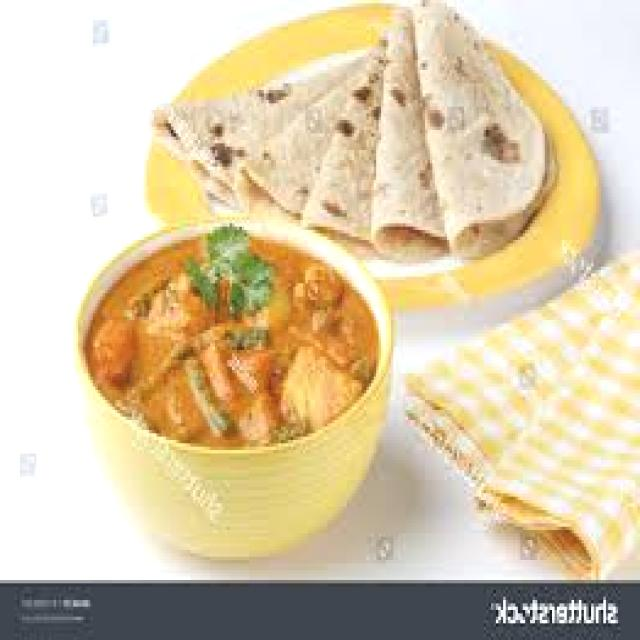chapathi: (171, 20, 564, 226)
